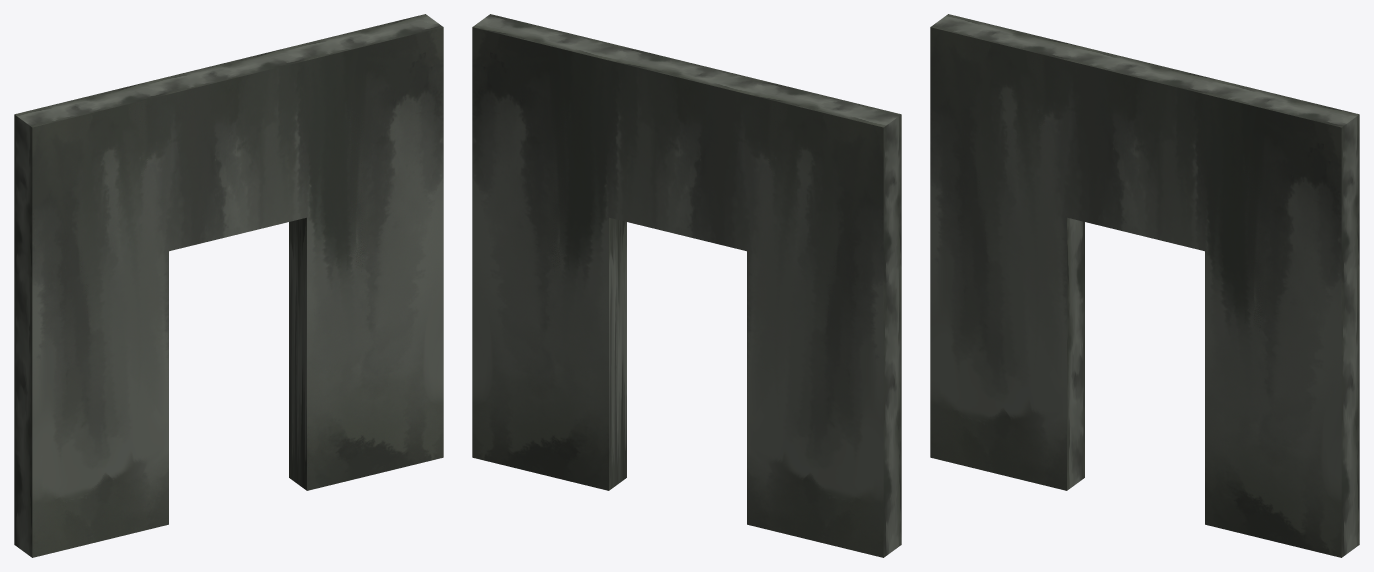
Rendered from wall_door.fbx.
The picture shows the model from 3 angles, left to right: view 1: azimuth 30°, elevation 25°; view 2: azimuth 150°, elevation 25°; view 3: azimuth 330°, elevation 25°; orthographic projection.
Parts seen in each view (by area): view 1: wall_door; view 2: wall_door; view 3: wall_door.
Part boxes in pixels (x1=…): wall_door: x1=14, y1=14, x2=443, y2=557; wall_door: x1=472, y1=14, x2=901, y2=557; wall_door: x1=930, y1=14, x2=1359, y2=557.
Bounding box in the file's own units: 300 × 300 × 22.76.
